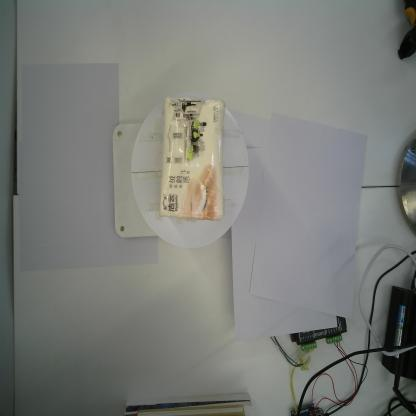Tissue: (158, 96, 225, 220)
